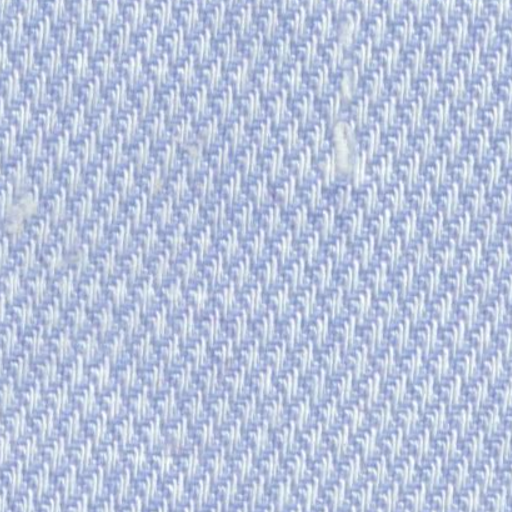DuanSha: (309, 11, 384, 208)
